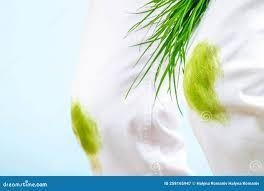earth: (186, 48, 220, 106), (73, 112, 93, 147)
